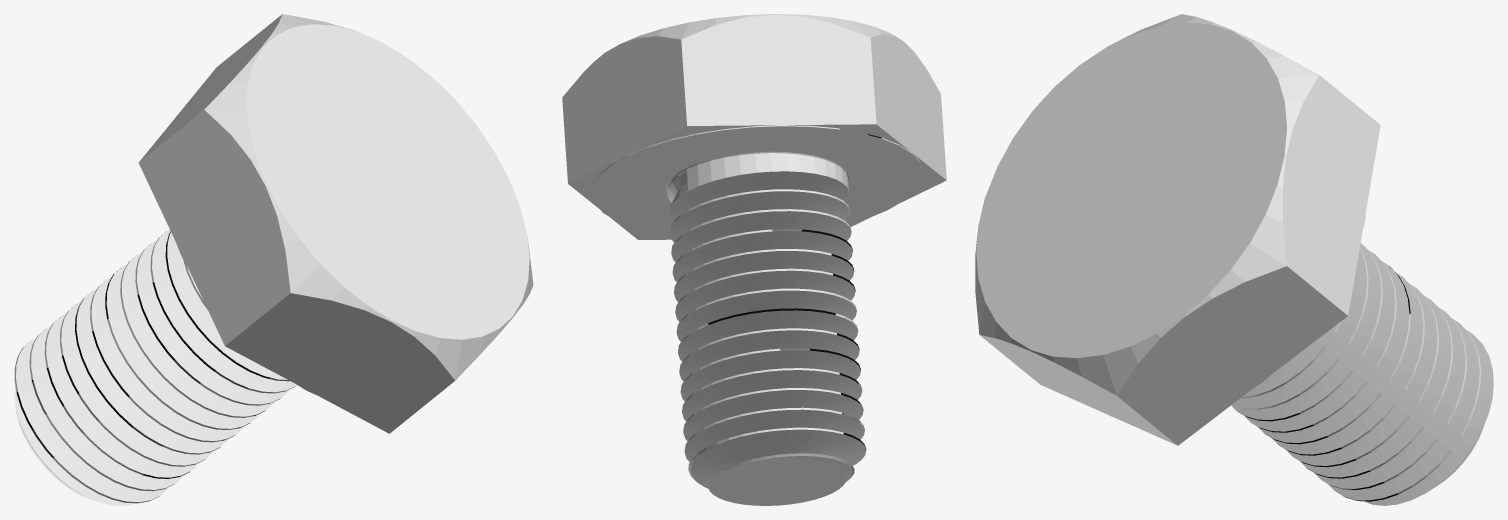
File: Bolt_018.obj
3 views of the same model, side by side, from view 1: azimuth 30°, elevation 25°; view 2: azimuth 150°, elevation 25°; view 3: azimuth 270°, elevation 25° (orthographic). The views are drawn at different scales.
Visible parts, largest first — view 1: Bolt.018; view 2: Bolt.018; view 3: Bolt.018.
Part boxes in pixels (left/top/right/bottom): Bolt.018: left=14, top=14, right=533, bottom=505; Bolt.018: left=562, top=14, right=946, bottom=505; Bolt.018: left=975, top=14, right=1493, bottom=505.
Size of the model in its own units: 0.1149 by 0.136 by 0.1288.
1 material, 1 textured.
